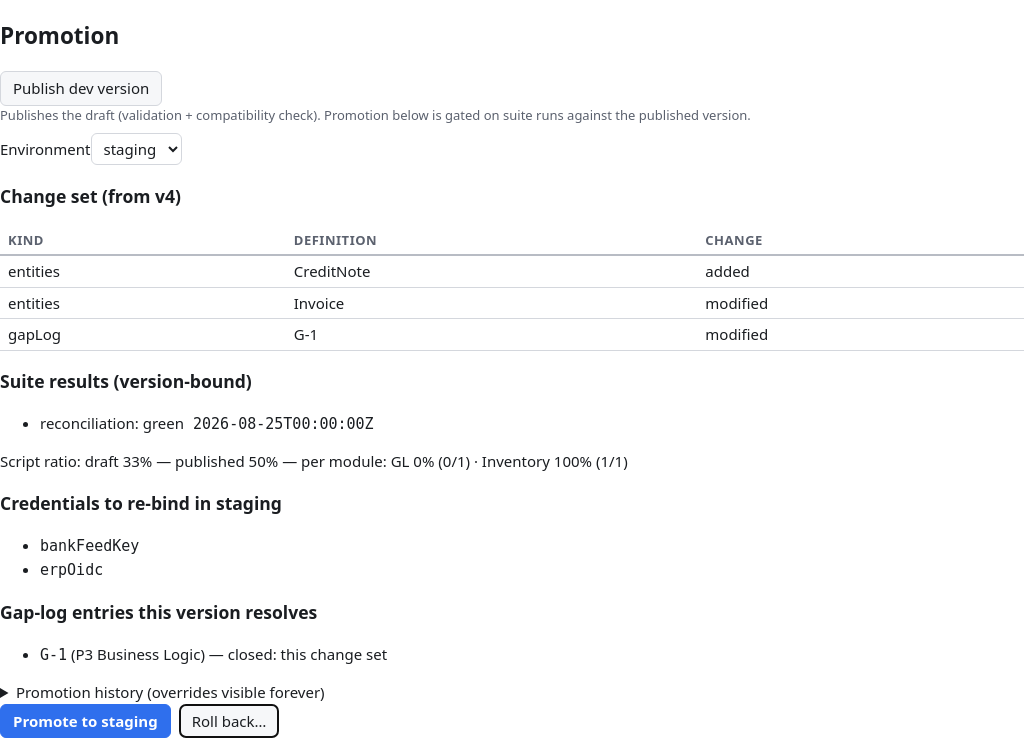
Scenario: Lifecycle rollback (the blocking window.prompt's replacement) › rolls back through the in-app dialog, then refreshes the review onto the new baseline
This screenshot has width=1024, height=742.
Expected: the heading "Change set (from v4)" is shown, 0,184 -> 181,208
Step 1. Click the button "Roll back…" → (229, 721), box 179,704 -> 280,738
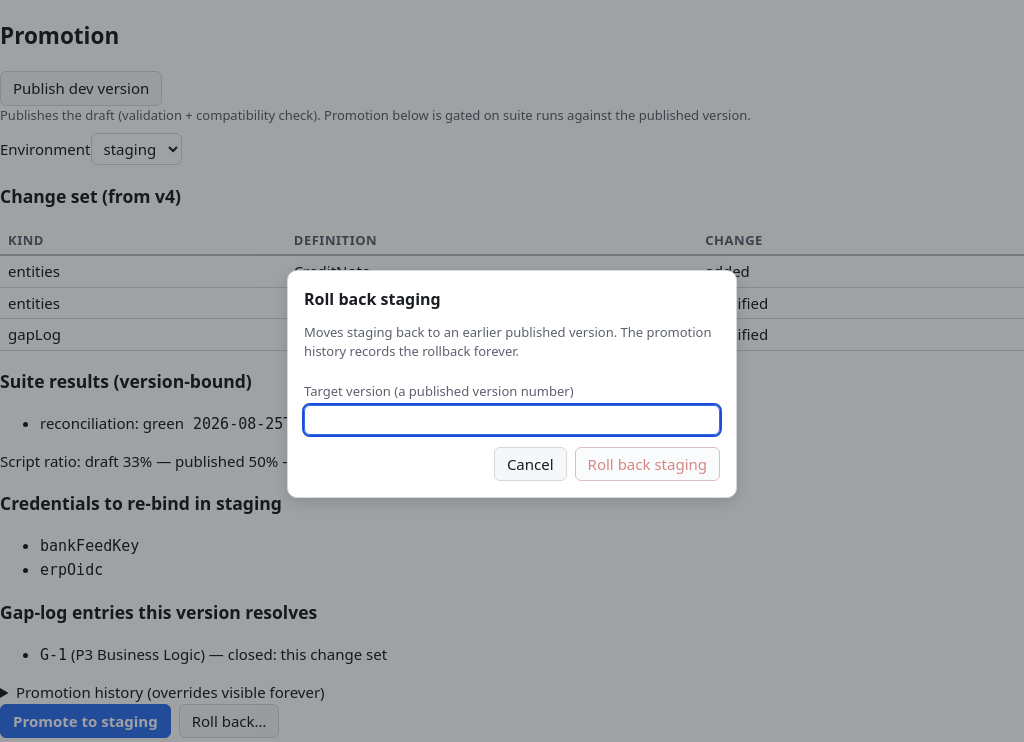
// cancel leg: Escape closes, nothing was sent, focus returns to the trigger
Step 2. Press Escape
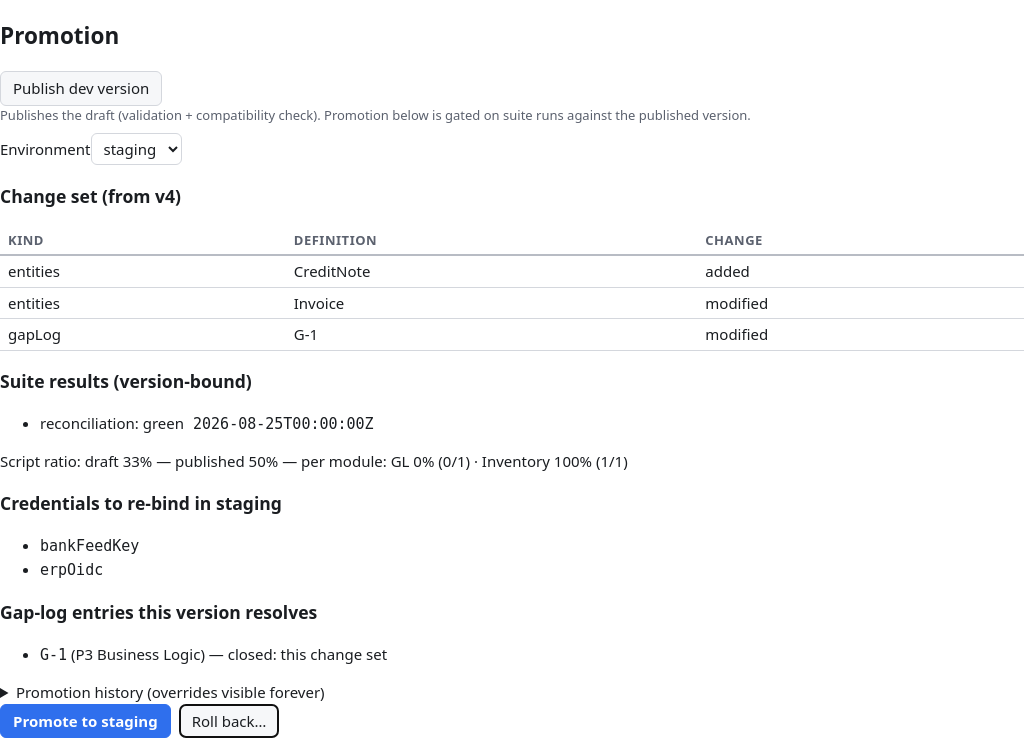
Result: the dialog is gone
Step 3. Click the button "Roll back…" → (229, 721), box 179,704 -> 280,738
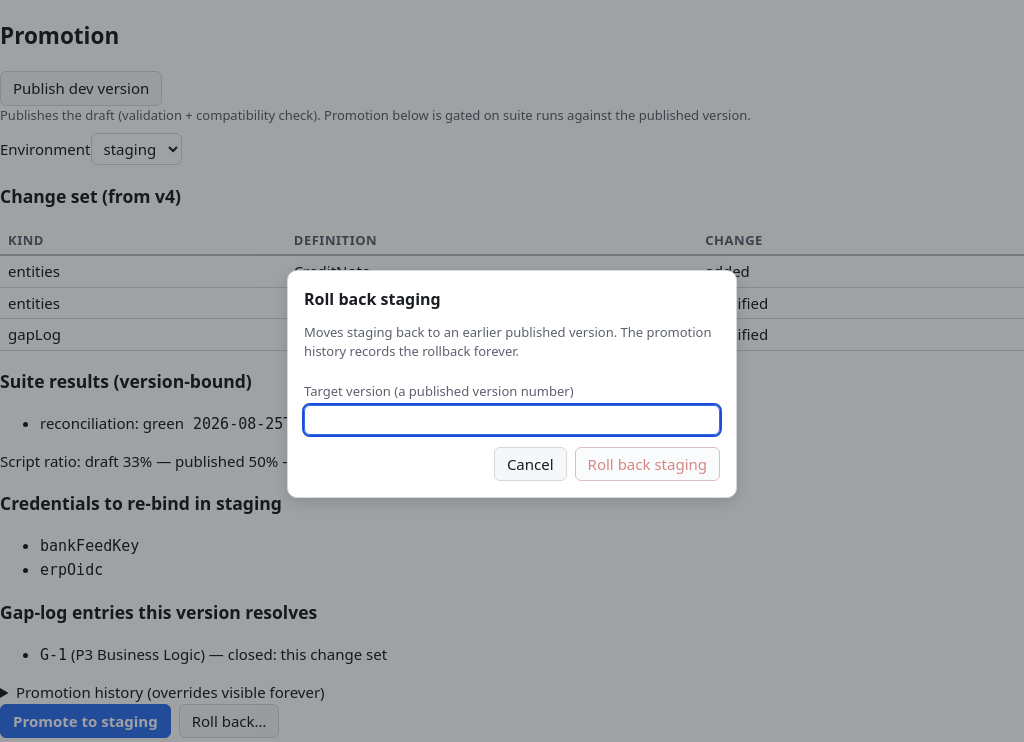
Result: the button "Roll back staging" is disabled at 575,447 -> 720,481
Step 4. Type "3" into the field labelled "Target version (a published version number)" → (512, 420), box 304,405 -> 720,435
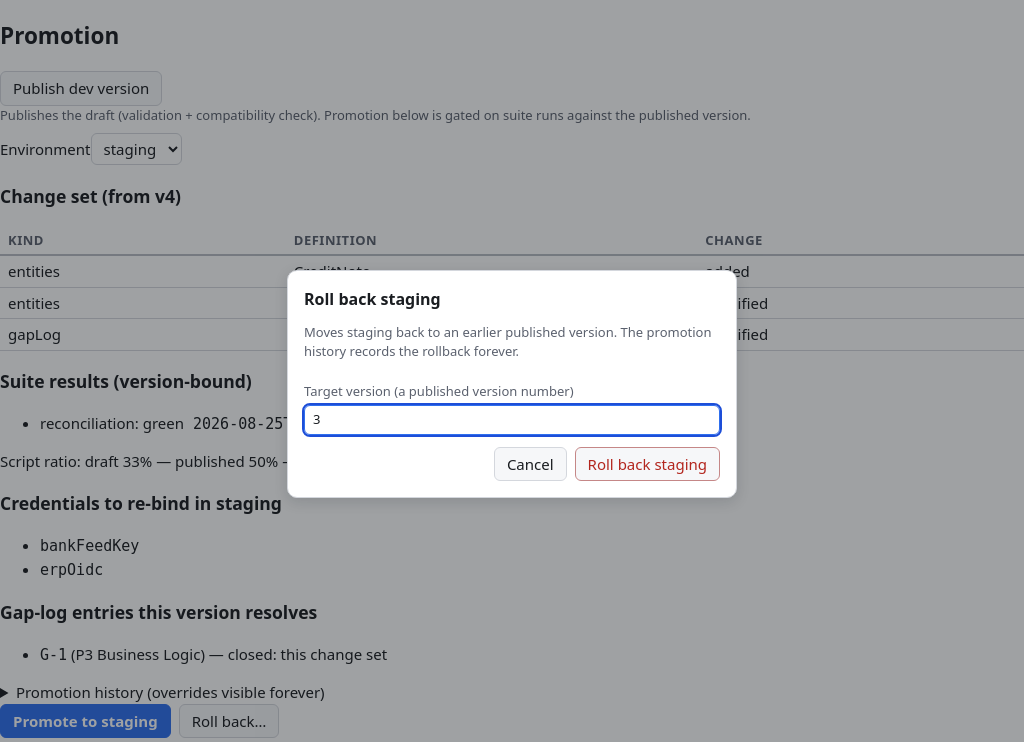
Result: the button "Roll back staging" is enabled
Step 5. Click the button "Roll back staging" → (647, 464), box 575,447 -> 720,481
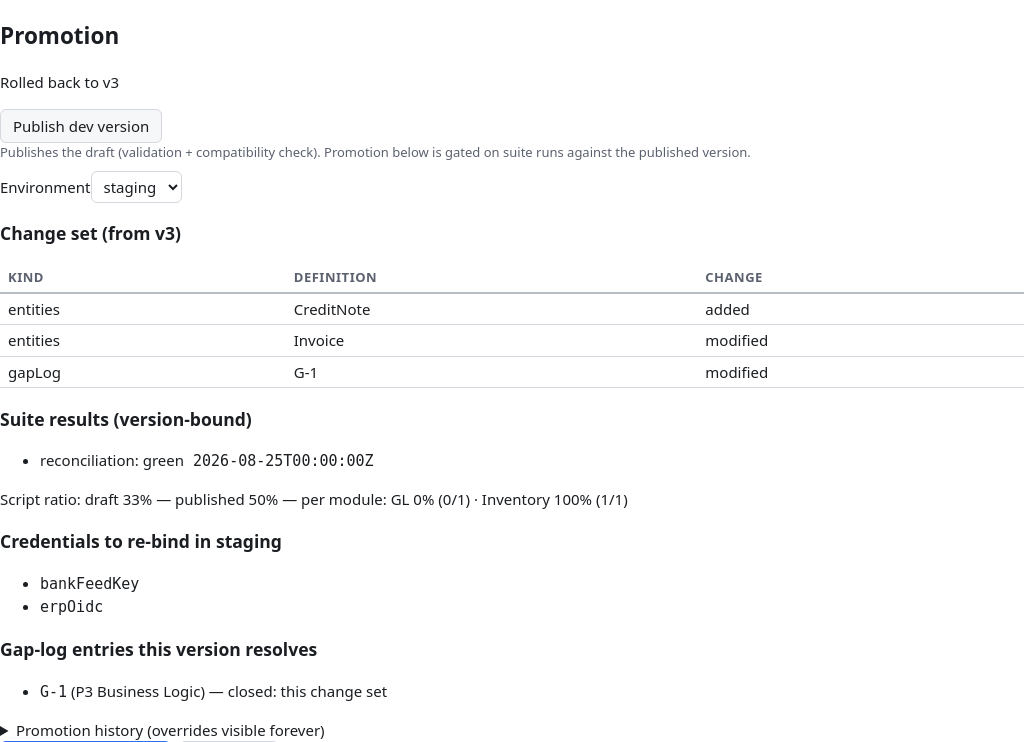
Result: the heading "Change set (from v3)" is shown at 0,221 -> 181,245
